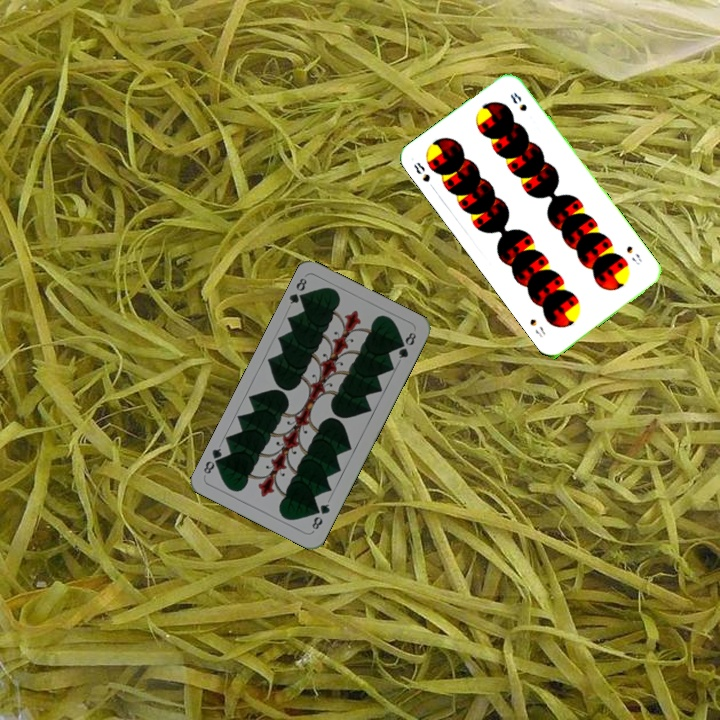G8: (285, 274, 310, 307), (308, 500, 332, 532)
S8: (410, 158, 438, 193), (622, 242, 645, 267)
